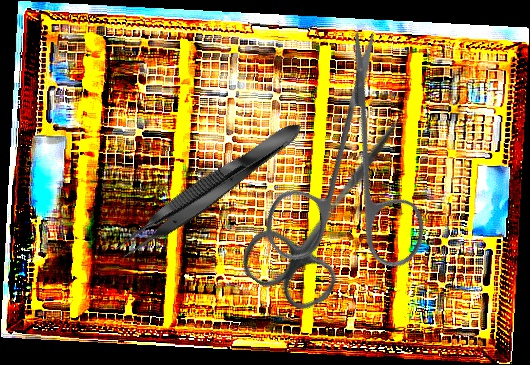Iris Scissors: (200, 23, 500, 323), (233, 90, 435, 321)
Tissue Forceps: (109, 112, 311, 268)
